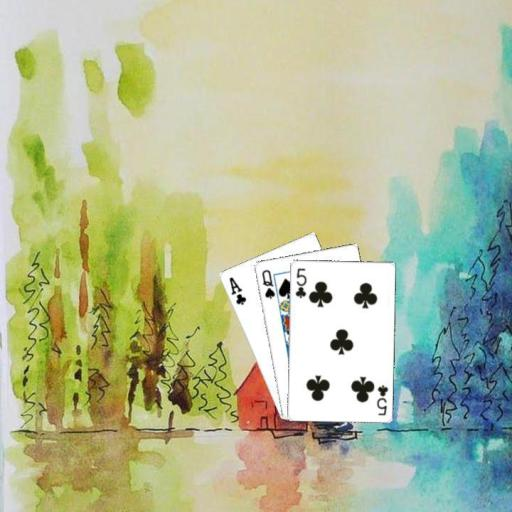5C: (373, 381, 390, 416), (292, 265, 307, 299)
AC: (226, 274, 248, 306)
QS: (258, 266, 276, 300)
